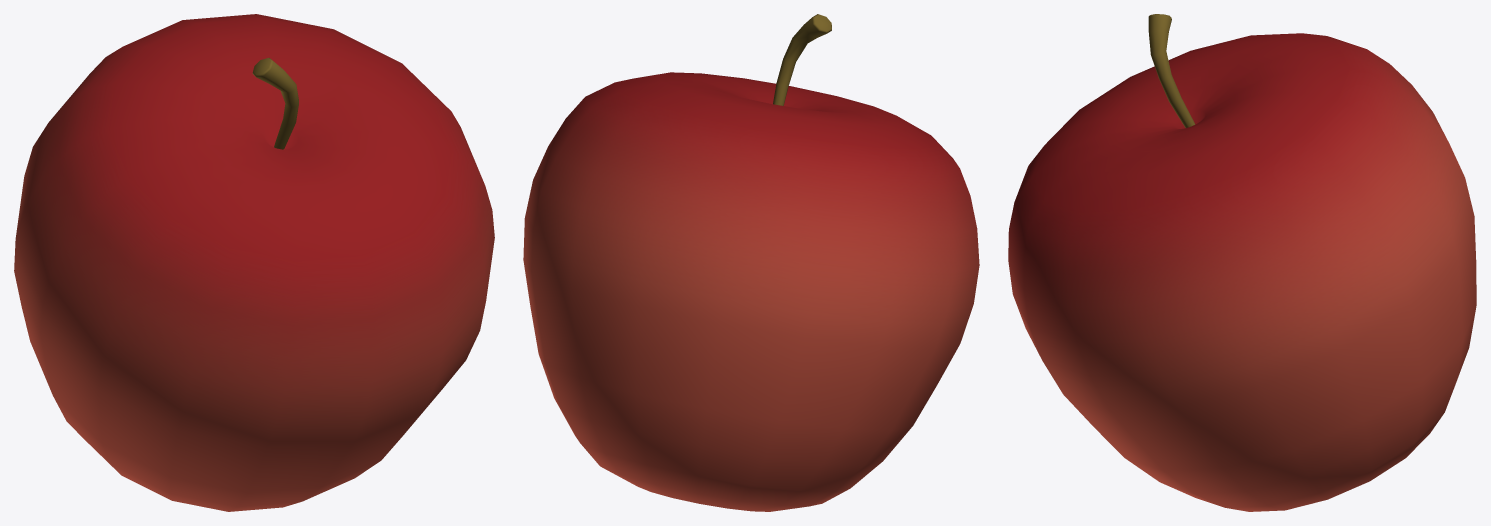
The model's file is Apple.fbx.
The picture shows the model from 3 angles, left to right: view 1: azimuth 30°, elevation 25°; view 2: azimuth 150°, elevation 25°; view 3: azimuth 270°, elevation 25°; orthographic projection. The views are drawn at different scales.
Parts seen in each view (by area): view 1: Apple; view 2: Apple; view 3: Apple.
Boxes of the visible parts, <box> form: Apple: <box>14,14,494,511</box>; Apple: <box>523,14,979,511</box>; Apple: <box>1008,14,1476,511</box>.
Size of the model in its own units: 1.48 by 1.6 by 1.47.
1 material, 1 textured.
